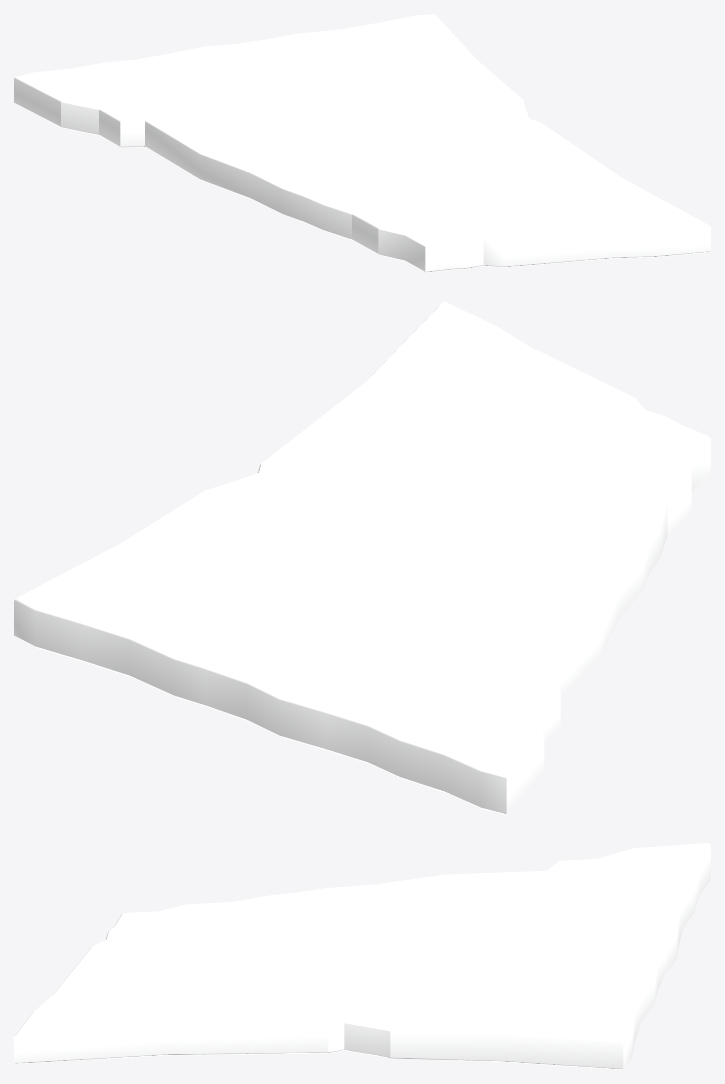
Rendered from ice_floe_large_003.glb.
The picture shows the model from 3 angles, top to bottom: view 1: azimuth 30°, elevation 25°; view 2: azimuth 150°, elevation 25°; view 3: azimuth 270°, elevation 25°; orthographic projection. The views are drawn at different scales.
Parts seen in each view (by area): view 1: ice_floe_large_003; view 2: ice_floe_large_003; view 3: ice_floe_large_003.
Part boxes in pixels (x1,y1,x2,y2): ice_floe_large_003: (14, 14, 710, 272); ice_floe_large_003: (14, 301, 710, 814); ice_floe_large_003: (14, 843, 710, 1069).
Size of the model in its own units: 12.61 by 0.9115 by 18.69.
Materials: 1 (1 with a texture image).
